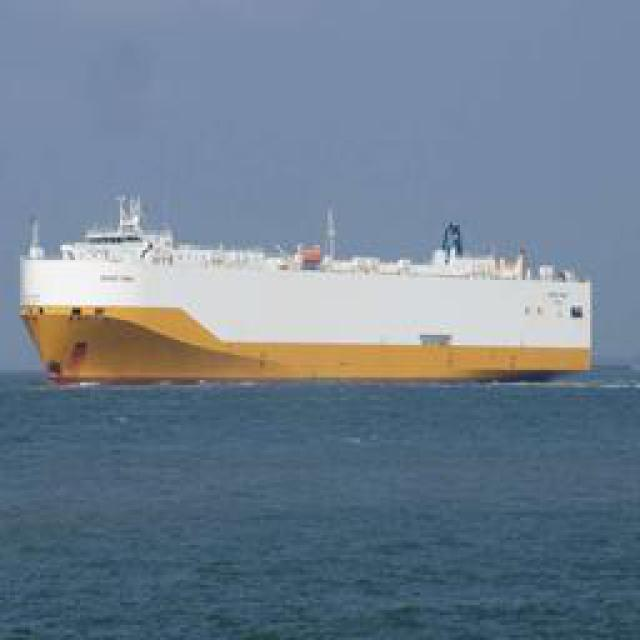Ship: (19, 199, 614, 394)
